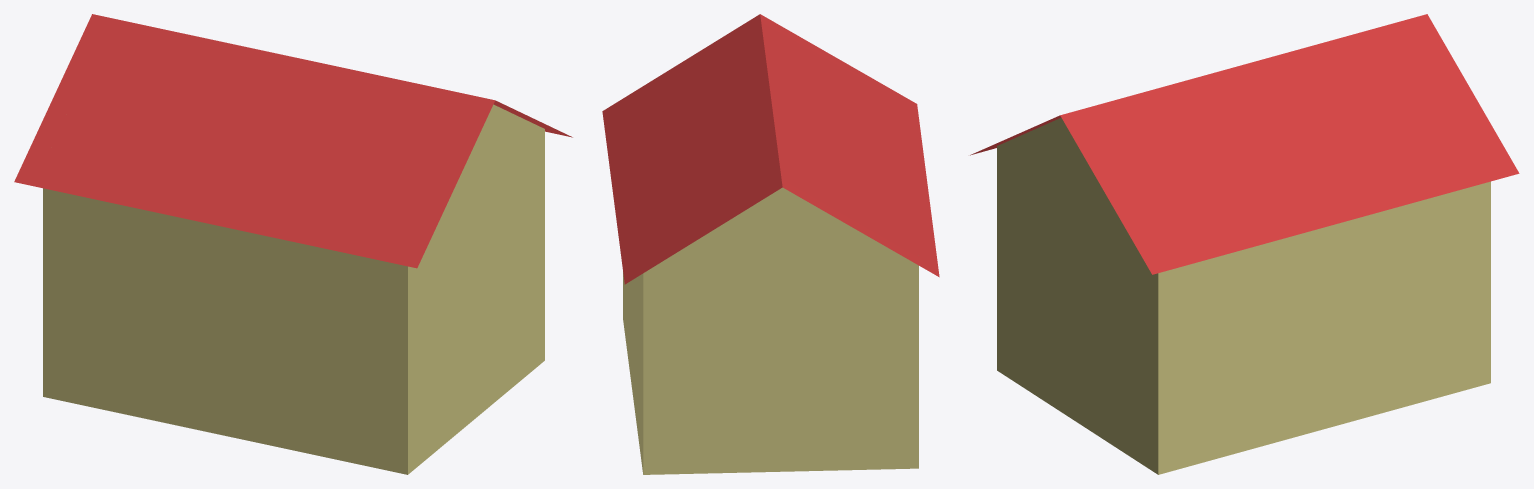
3 views of the same model, side by side, from view 1: azimuth 30°, elevation 25°; view 2: azimuth 150°, elevation 25°; view 3: azimuth 270°, elevation 25° (orthographic). The views are drawn at different scales.
Size of the model in its own units: 18.83 by 19.91 by 12.44.
